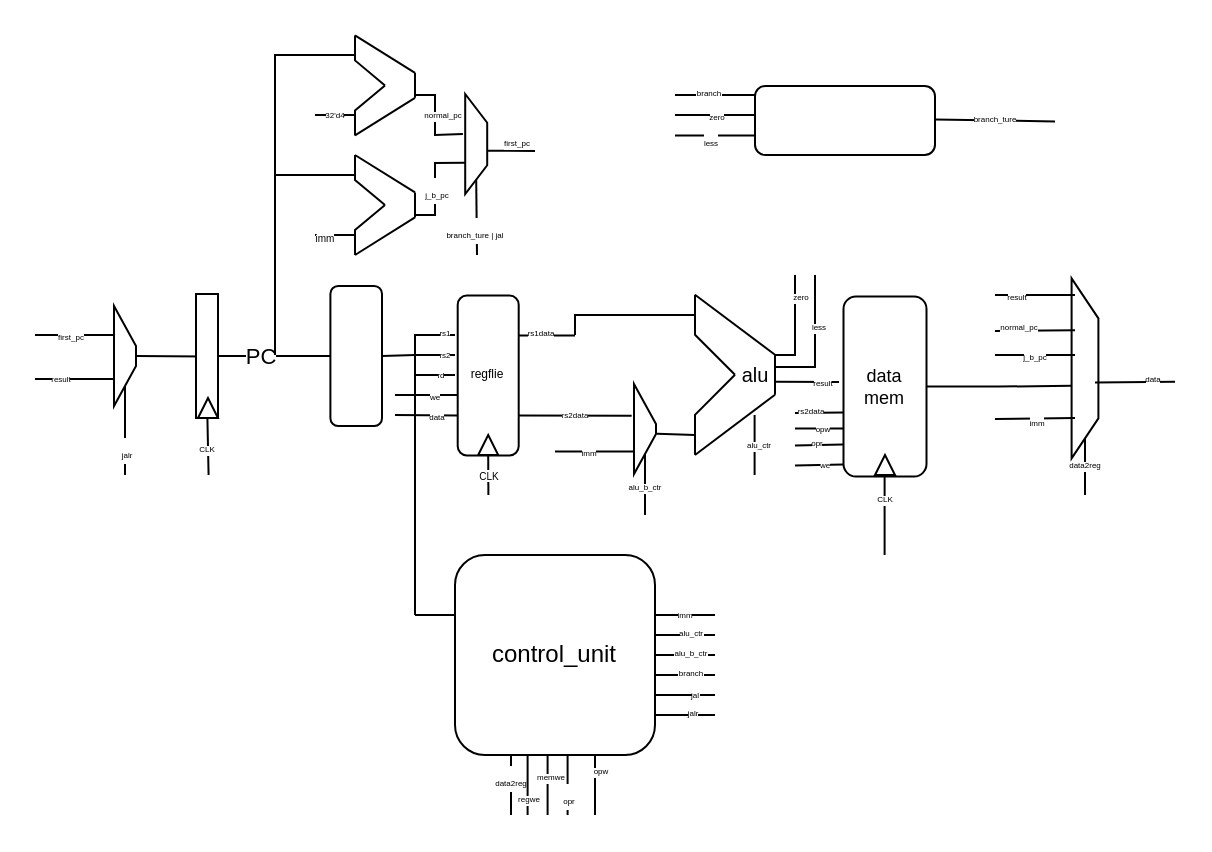
The diagram is 1212 pixels wide and 852 high, and some of its shapes have lost their labels. The shapes that lost their labels are listed below. From the top down, each one's box as (x1, y1, x2, y2) in pixels, then its label:
(753, 84, 935, 155): branch_unit
(328, 284, 382, 426): instr mem
